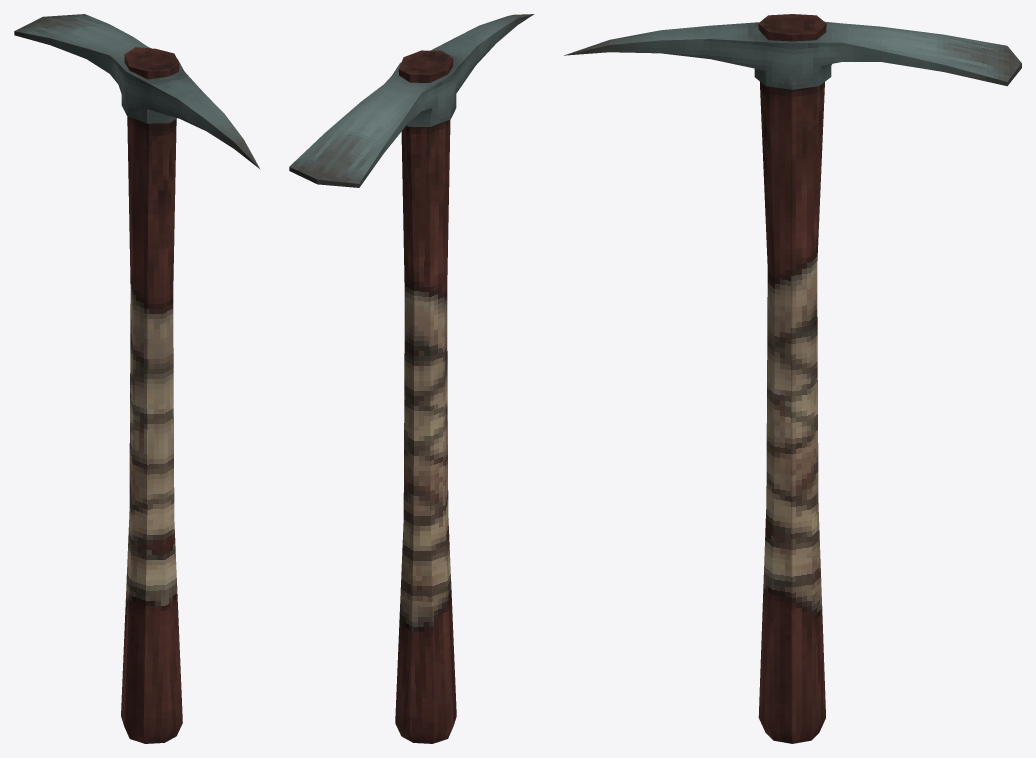
File: pickaxe.glb
3 views of the same model, side by side, from view 1: azimuth 30°, elevation 25°; view 2: azimuth 150°, elevation 25°; view 3: azimuth 270°, elevation 25° (orthographic). The views are drawn at different scales.
Visible parts, largest first — view 1: Cylinder; view 2: Cylinder; view 3: Cylinder.
Part boxes in pixels (box(x1,y1,x2,y2)): Cylinder: box(14, 14, 260, 743); Cylinder: box(289, 14, 534, 743); Cylinder: box(564, 14, 1021, 743).
Size of the model in its own units: 0.4155 by 3.83 by 2.23.
Materials: 1 (1 with a texture image).
